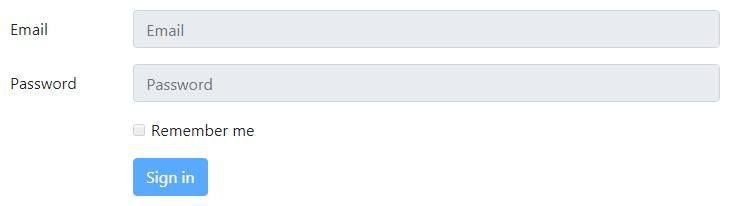button: (126, 152, 214, 200)
checkbox: (127, 117, 150, 142)
textbox: (126, 58, 726, 110), (127, 6, 725, 55)
